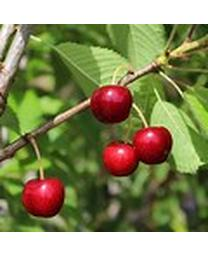cherry: (21, 178, 64, 218), (91, 84, 133, 123), (133, 126, 173, 163), (103, 140, 139, 177)
